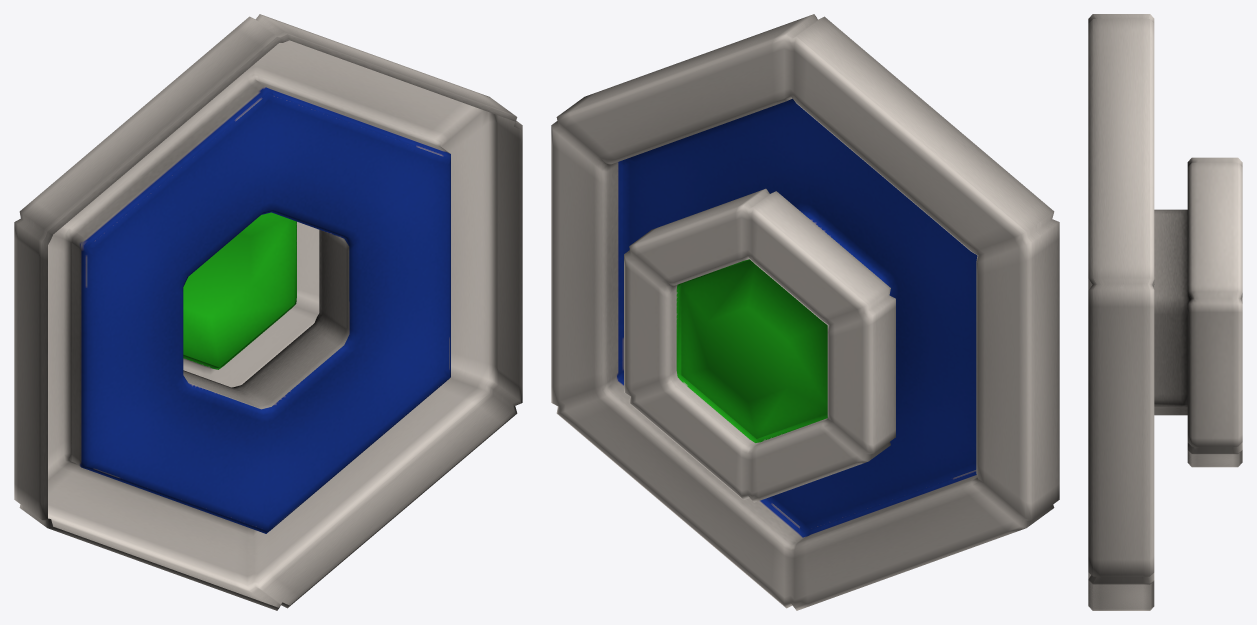
The model's file is foutain.fbx.
3 renders of one model, left to right at view 1: azimuth 30°, elevation 25°; view 2: azimuth 150°, elevation 25°; view 3: azimuth 270°, elevation 25°, orthographic. The views are drawn at different scales.
Visible parts, largest first — view 1: foutain; view 2: foutain; view 3: foutain.
Part boxes in pixels (x1,y1,x2,y2): foutain: (14,14,522,610); foutain: (551,14,1059,610); foutain: (1088,14,1242,610).
Bounding box in the file's own units: 51962 × 59360 × 14000.
